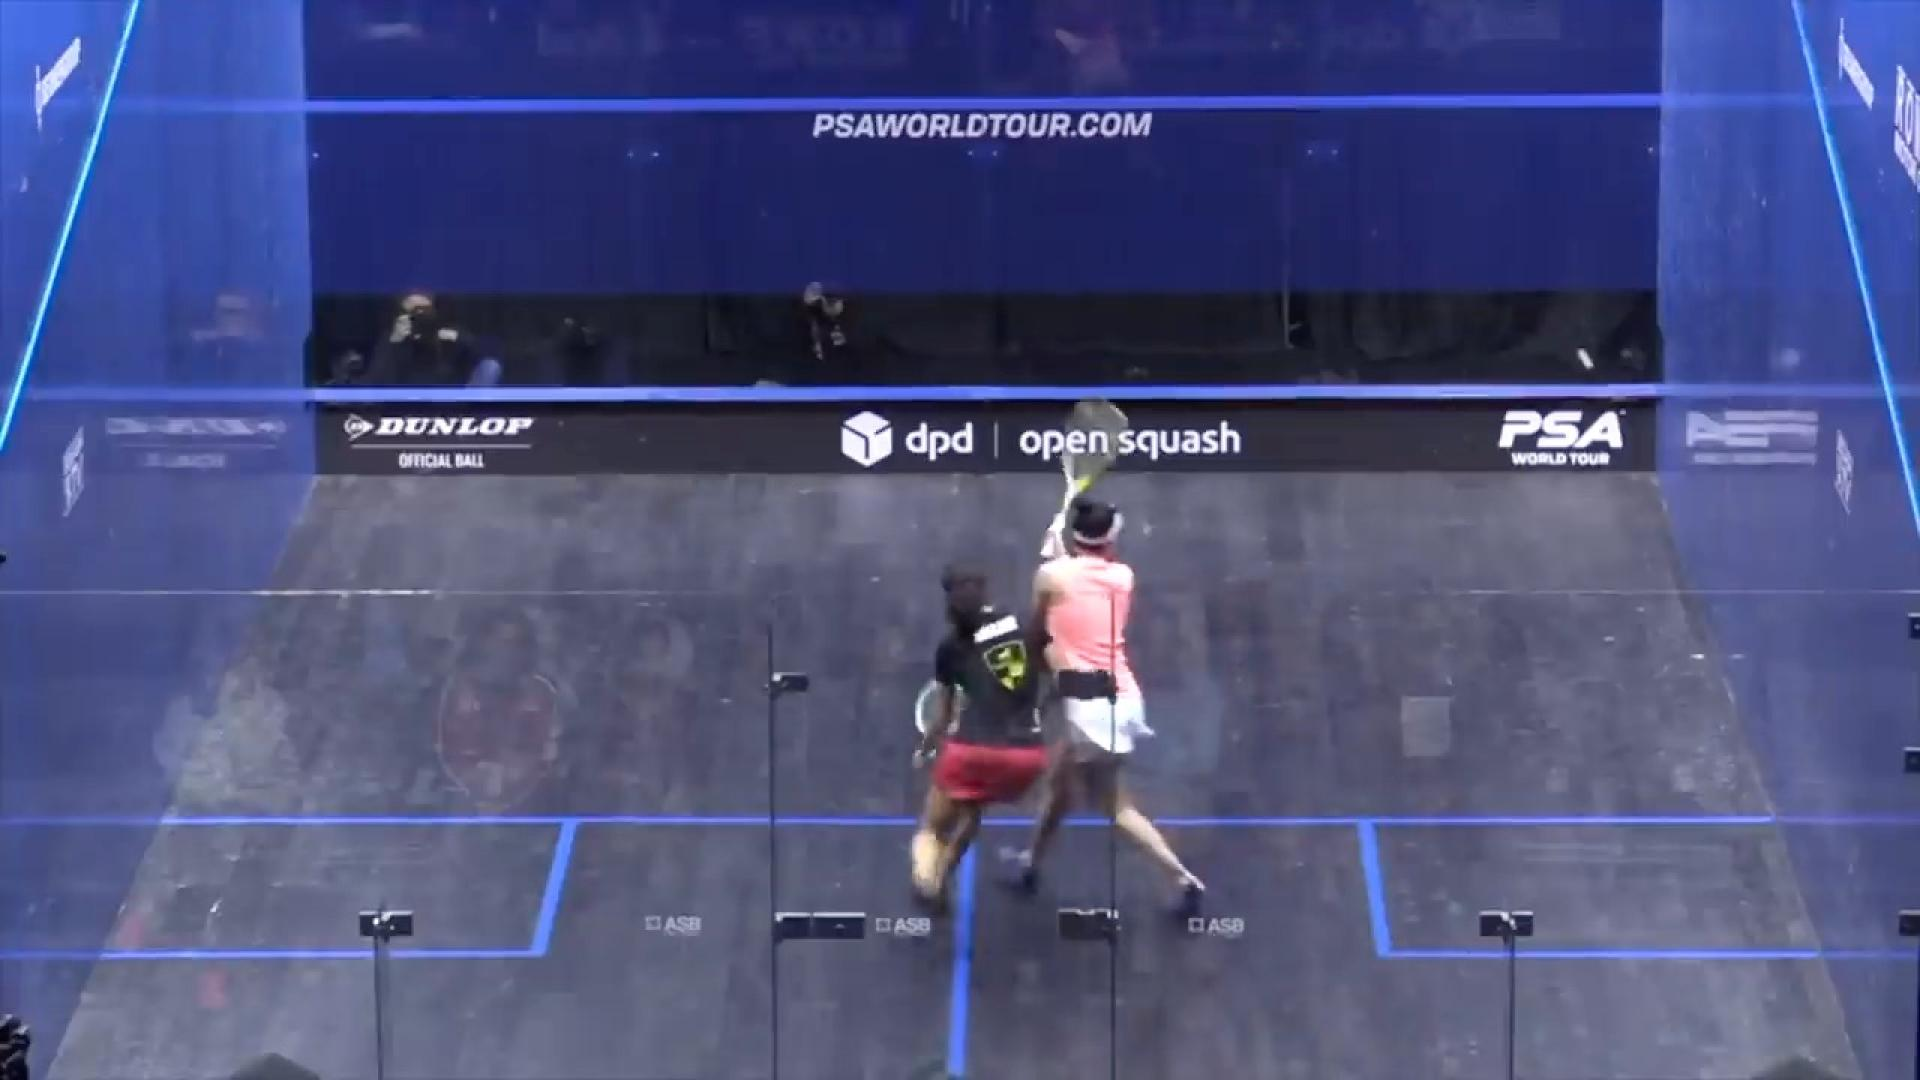Squash-Ball: (1569, 335, 1613, 390)
